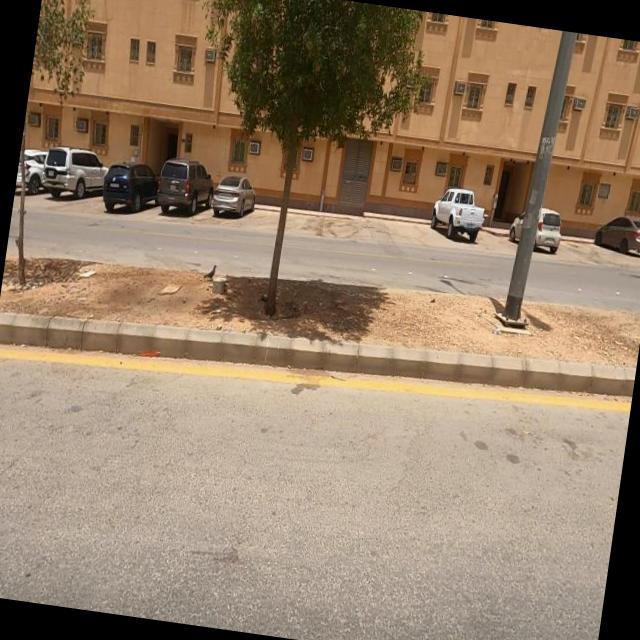debris: (42, 222, 136, 322), (124, 246, 202, 346)
